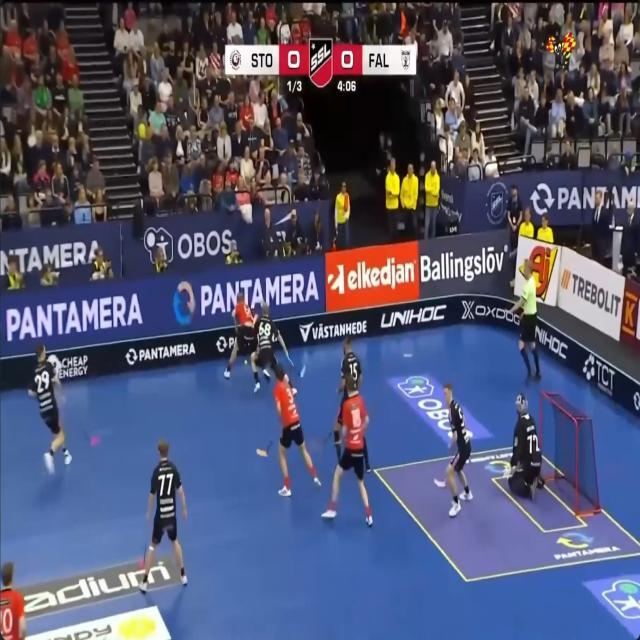player: (322, 377, 373, 526), (139, 439, 187, 592), (273, 363, 320, 496), (28, 345, 71, 472), (443, 382, 472, 517), (506, 394, 543, 499), (510, 259, 541, 379), (333, 336, 362, 463), (250, 303, 288, 392), (223, 293, 256, 378), (0, 561, 25, 639), (363, 439, 370, 472), (284, 373, 289, 382), (292, 387, 296, 395)
stick: (256, 439, 272, 457), (434, 478, 446, 488)
